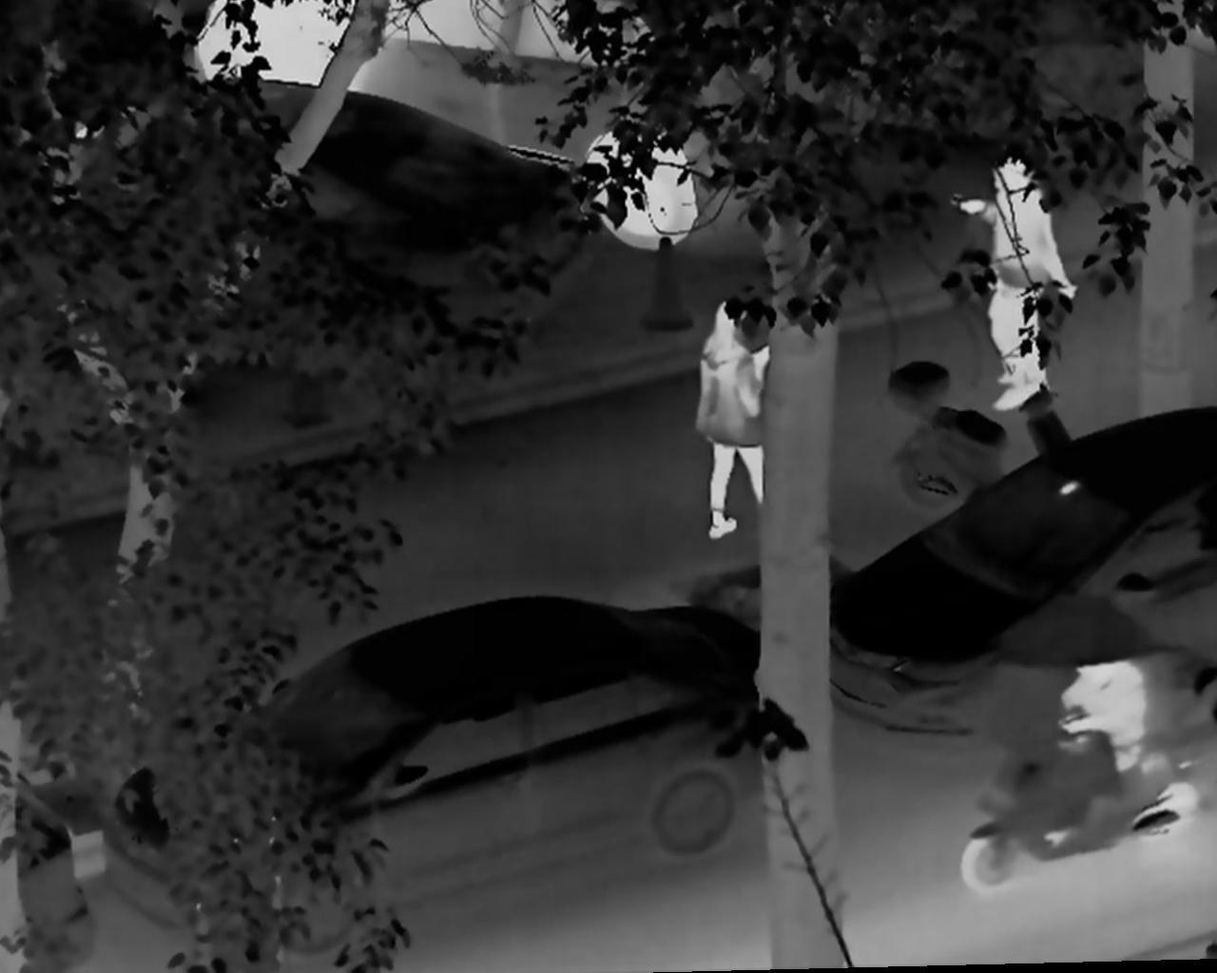person: (960, 143, 1052, 388), (985, 168, 1076, 414), (689, 301, 779, 543), (1051, 650, 1149, 786)
